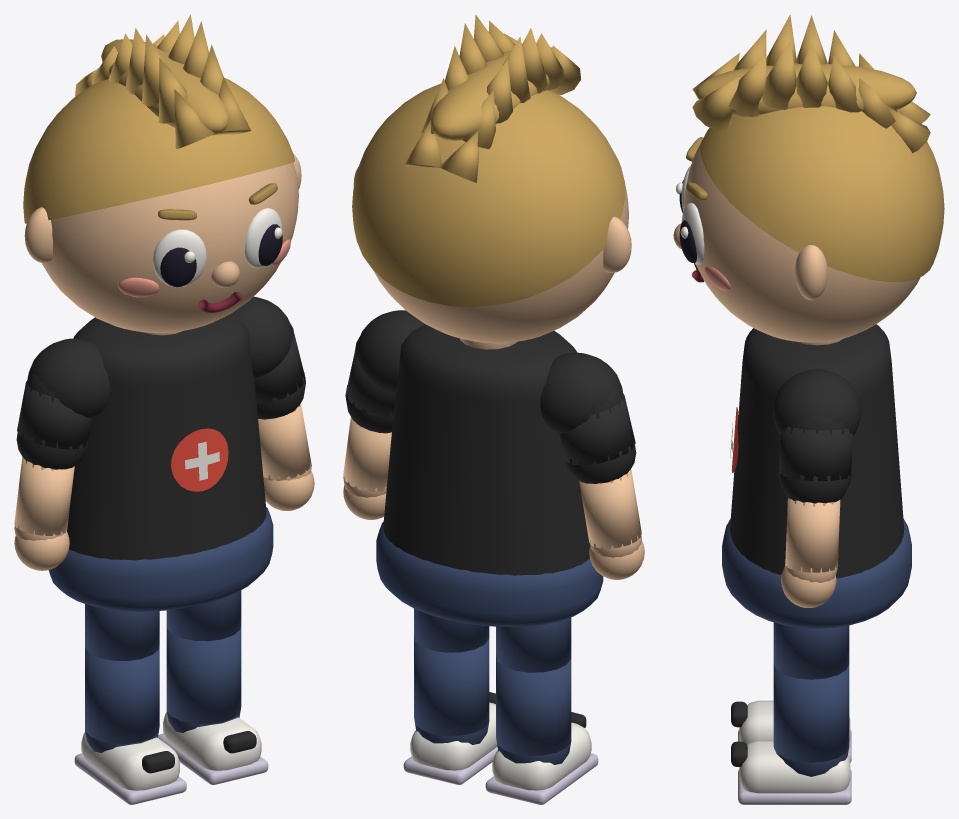
File: ch_denis.fbx
The picture shows the model from 3 angles, left to right: view 1: azimuth 30°, elevation 25°; view 2: azimuth 150°, elevation 25°; view 3: azimuth 270°, elevation 25°; orthographic projection.
Visible parts, largest first — view 1: ch_denis; view 2: ch_denis; view 3: ch_denis.
Part boxes in pixels (x1=…): ch_denis: x1=14, y1=14, x2=314, y2=804; ch_denis: x1=343, y1=14, x2=644, y2=804; ch_denis: x1=673, y1=14, x2=944, y2=804.
Bounding box in the file's own units: 0.61 × 1.48 × 0.4884.
